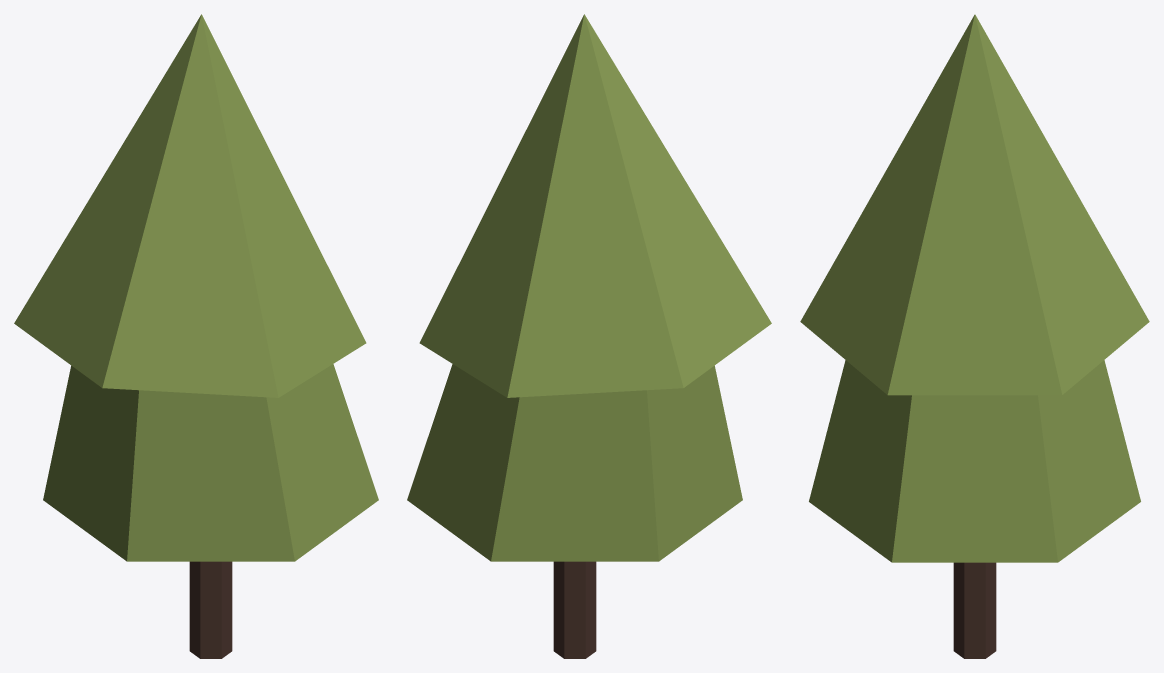
Rendered from Tree_Type1_01.glb.
3 views of the same model, side by side, from view 1: azimuth 30°, elevation 25°; view 2: azimuth 150°, elevation 25°; view 3: azimuth 270°, elevation 25° (orthographic).
Visible parts, largest first — view 1: Tree Type1 01 Model; view 2: Tree Type1 01 Model; view 3: Tree Type1 01 Model.
Part boxes in pixels (<box>): Tree Type1 01 Model: <box>14,14,378,658</box>; Tree Type1 01 Model: <box>407,14,771,658</box>; Tree Type1 01 Model: <box>800,14,1149,658</box>.
Size of the model in its own units: 0.612 by 1.34 by 0.6714.
1 material, 1 textured.
